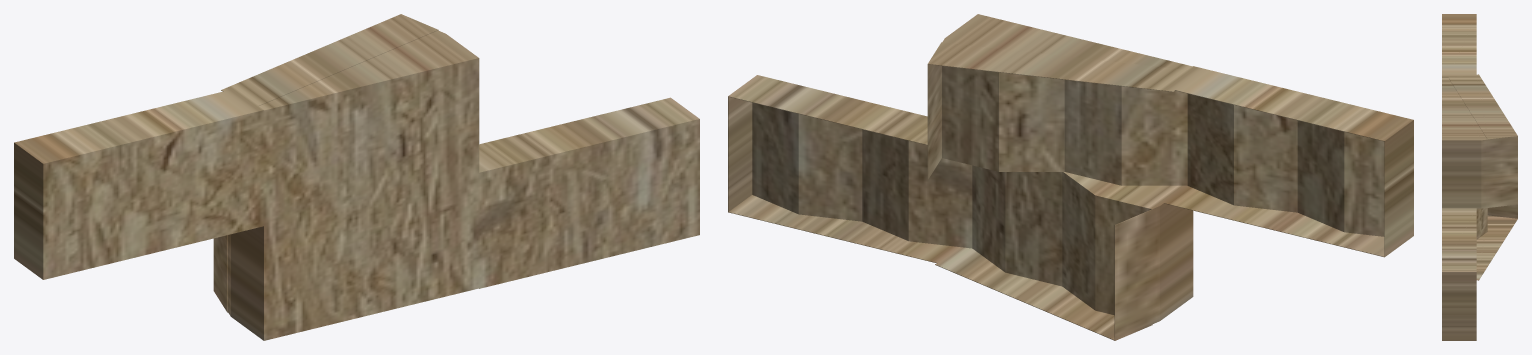
The model's file is continuous_ramp_slope.dae.
3 views of the same model, side by side, from view 1: azimuth 30°, elevation 25°; view 2: azimuth 150°, elevation 25°; view 3: azimuth 270°, elevation 25° (orthographic). The views are drawn at different scales.
Visible parts, largest first — view 1: Continuous Ramp Slope; view 2: Continuous Ramp Slope; view 3: Continuous Ramp Slope.
Part boxes in pixels (x1,y1,x2,y2): Continuous Ramp Slope: (14,14,699,340); Continuous Ramp Slope: (728,14,1413,340); Continuous Ramp Slope: (1442,14,1517,340).
Size of the model in its own units: 716 by 121 by 241.
1 material, 1 textured.
